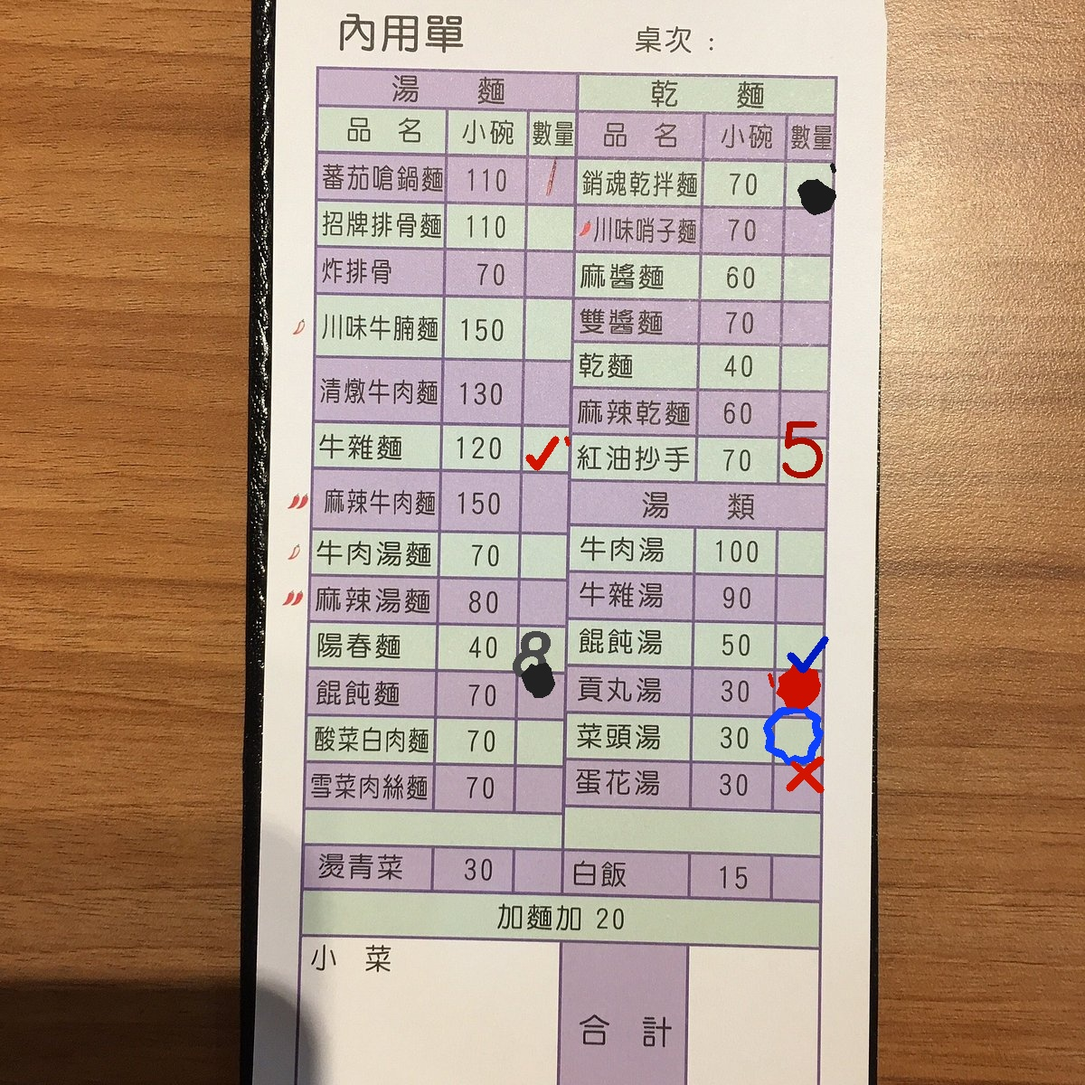marked_circle: (772, 670, 820, 716), (517, 670, 565, 716), (786, 159, 834, 205)
marked_hollow: (772, 716, 820, 762)
marked_number_5: (778, 436, 826, 482)
marked_number_8: (517, 623, 565, 669)
marked_tick: (520, 426, 568, 472), (775, 623, 823, 669)
marked_x: (772, 765, 820, 811)
